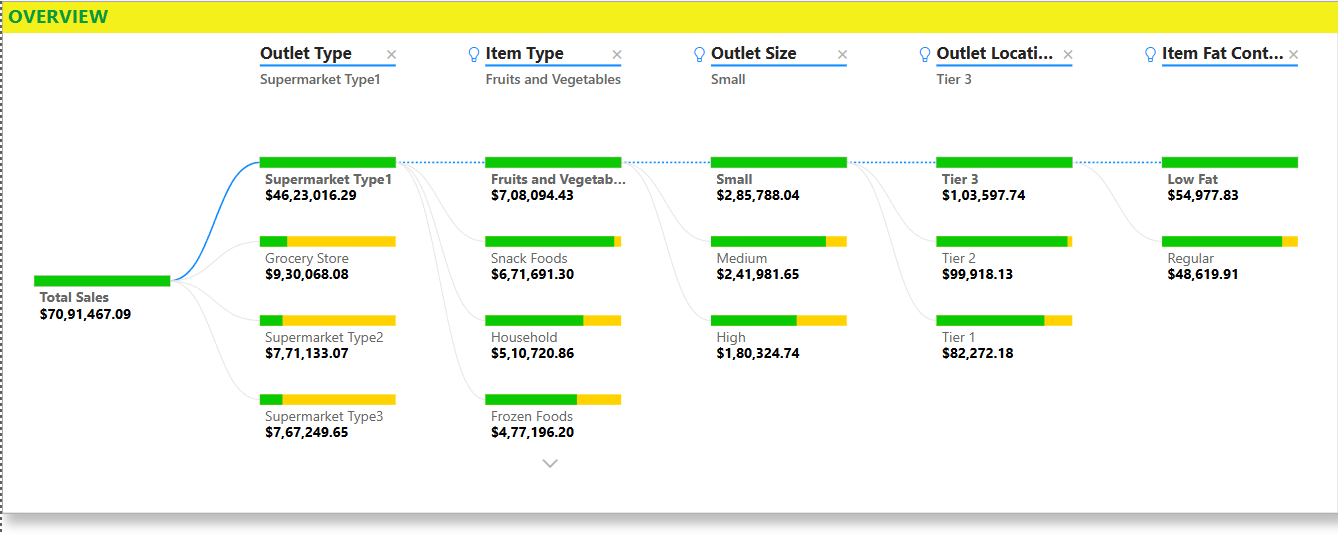

The dashboard page shown, as its layout file describes it:
{"tool":"powerbi","page":{"name":"SALE TOOLTIP","canvas":[1280,720],"ordinal":1},"visuals":[{"type":"decompositionTreeVisual","title":"OVERVIEW","fields":{"ExplainBy":["BlinkIT Grocery Data.Outlet Type","BlinkIT Grocery Data.Item Type","BlinkIT Grocery Data.Outlet Size","BlinkIT Grocery Data.Outlet Location Type","BlinkIT Grocery Data.Item Fat Content"],"Analyze":["BlinkIT Grocery Data.Total Sales"]},"box":[0,93.9,1279.9,490.9],"z":0}]}

Visuals, with their boxes on the page's 1280x720 design canvas (x1, y1, x2, y2). These are canvas units, not pixel positions in the 1338x535 screenshot, which may show the page scaled, cropped or inside an application window:
"OVERVIEW" decompositionTreeVisual: left=0, top=94, right=1280, bottom=585
